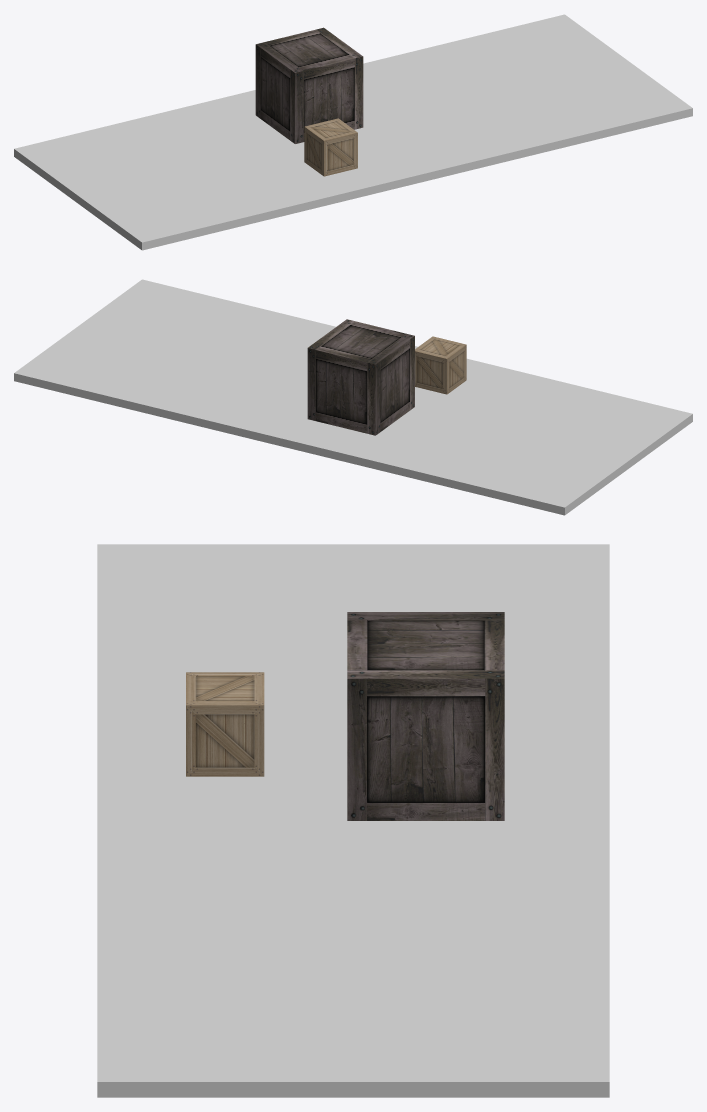
File: Poydat_ja_laatikot.FBX
3 views of the same model, one above another, from view 1: azimuth 30°, elevation 25°; view 2: azimuth 150°, elevation 25°; view 3: azimuth 270°, elevation 25° (orthographic). The views are drawn at different scales.
Visible parts, largest first — view 1: Box001, Box002, Box003; view 2: Box001, Box002, Box003; view 3: Box001, Box002, Box003.
Part boxes in pixels (box(x1,y1,x2,y2)): Box001: box(14, 14, 692, 250); Box002: box(255, 27, 363, 143); Box003: box(304, 118, 357, 176); Box001: box(14, 279, 692, 515); Box002: box(307, 319, 414, 435); Box003: box(415, 336, 466, 394); Box001: box(97, 544, 609, 1097); Box002: box(347, 612, 504, 820); Box003: box(186, 672, 264, 776).
Size of the model in its own units: 127 by 17.5 by 51.36.
Materials: 3 (2 with a texture image).
